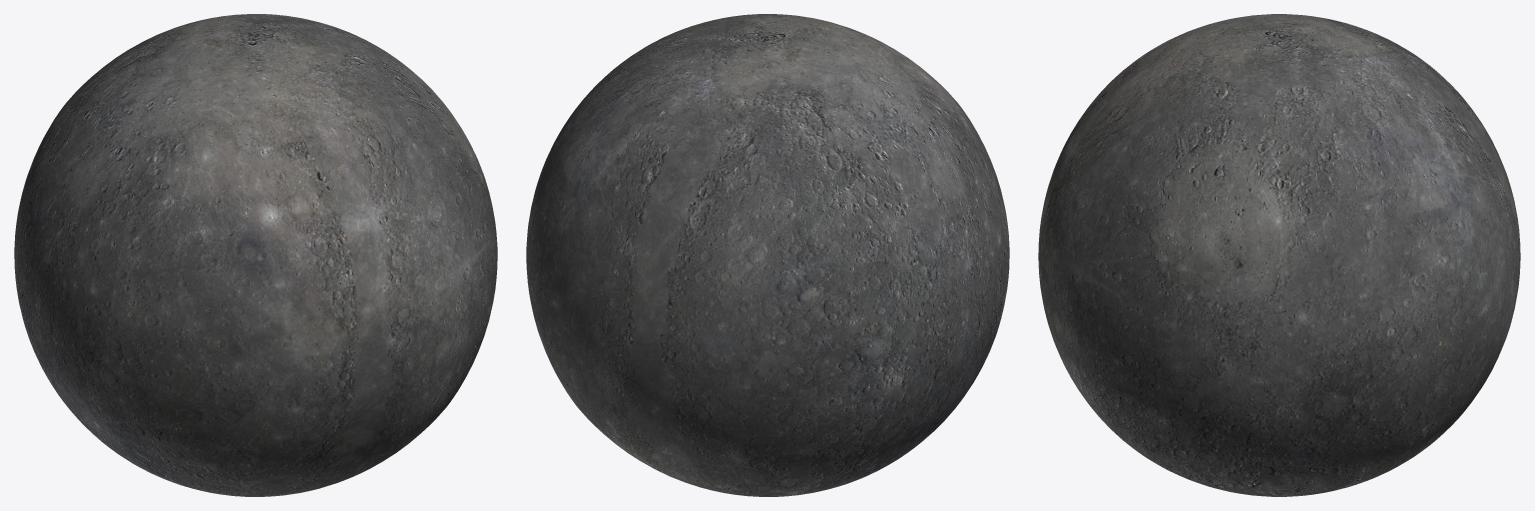
File: mercury.glb
The picture shows the model from 3 angles, left to right: view 1: azimuth 30°, elevation 25°; view 2: azimuth 150°, elevation 25°; view 3: azimuth 270°, elevation 25°; orthographic projection.
Visible parts, largest first — view 1: Mercury_surface_Cube.008; view 2: Mercury_surface_Cube.008; view 3: Mercury_surface_Cube.008.
Part boxes in pixels (left/top/right/bottom): Mercury_surface_Cube.008: left=14, top=14, right=497, bottom=496; Mercury_surface_Cube.008: left=526, top=14, right=1009, bottom=496; Mercury_surface_Cube.008: left=1038, top=14, right=1520, bottom=496.
Bounding box in the file's own units: 1.99 × 1.99 × 1.99.
Materials: 1 (1 with a texture image).
